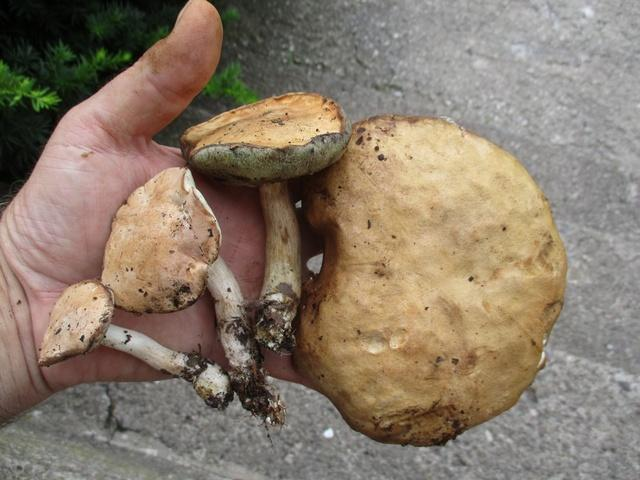Edible Mushroom: (290, 111, 568, 447), (36, 165, 286, 429), (178, 90, 352, 356)
